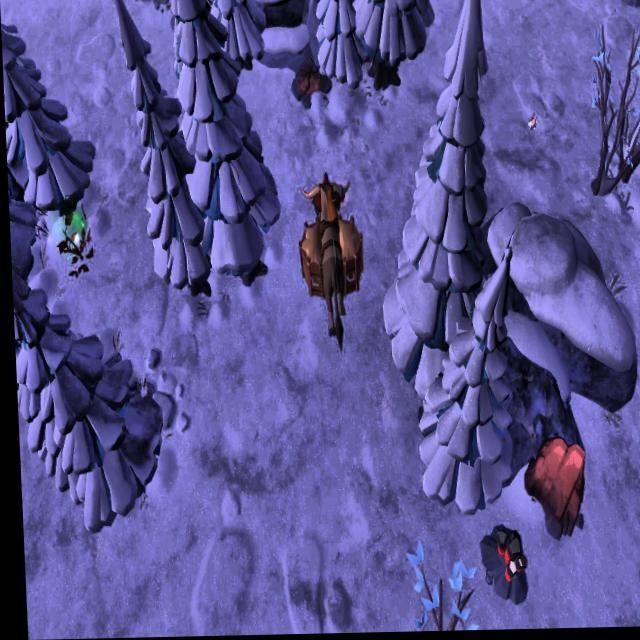ore_t5: (491, 528, 525, 587)
rock_t5: (518, 435, 587, 545)
